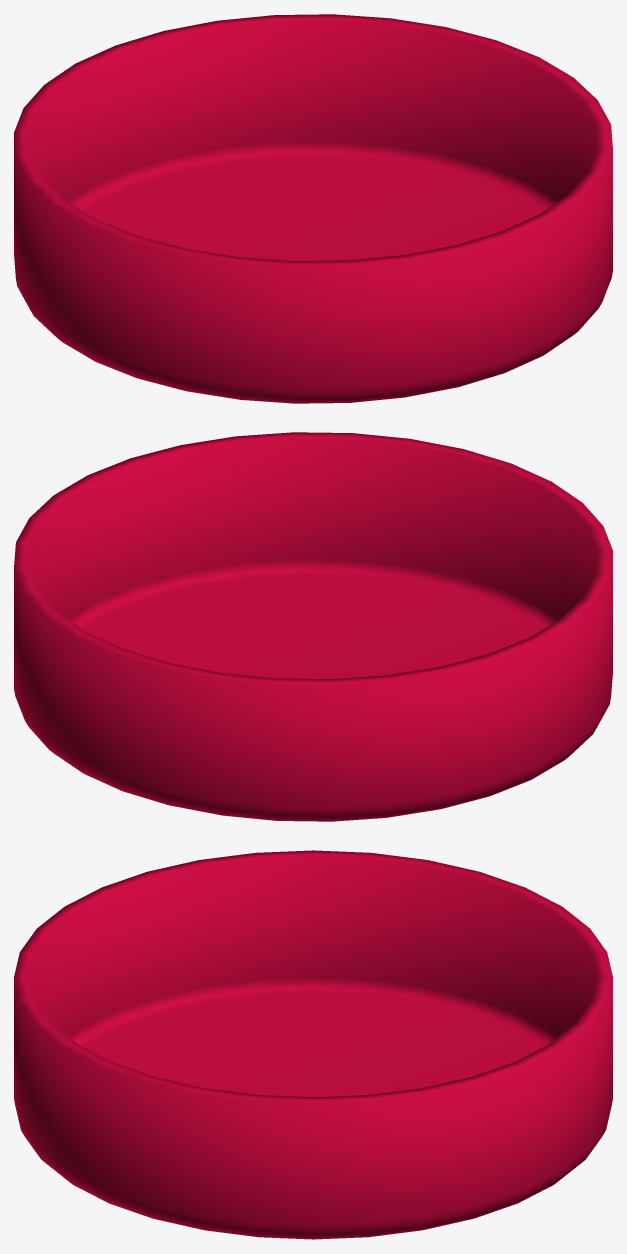
The model's file is dice tray.obj.
3 views of the same model, one above another, from view 1: azimuth 30°, elevation 25°; view 2: azimuth 150°, elevation 25°; view 3: azimuth 270°, elevation 25° (orthographic).
Parts seen in each view (by area): view 1: dice_tray; view 2: dice_tray; view 3: dice_tray.
Boxes of the visible parts, x1,y1,x2,y2 form: dice_tray: (14, 14, 612, 403); dice_tray: (14, 432, 612, 821); dice_tray: (14, 850, 612, 1239).
Size of the model in its own units: 2 by 0.5324 by 2.
